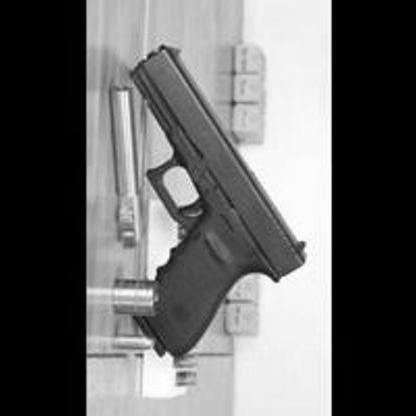weapon: (124, 42, 313, 363)
